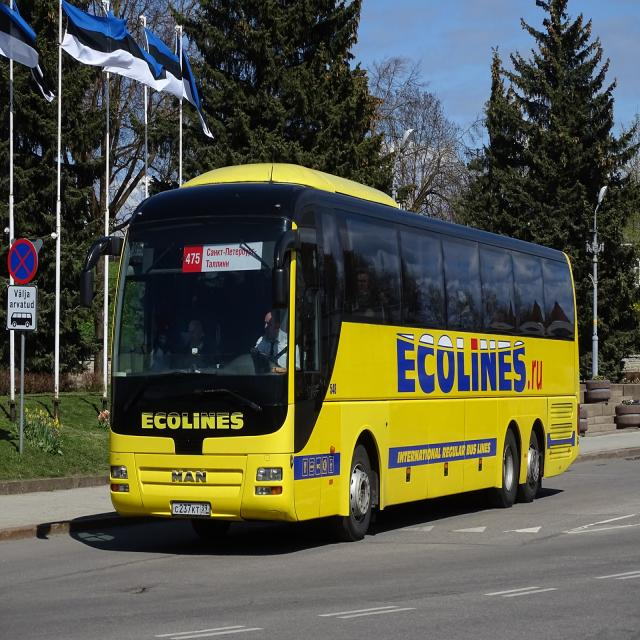number-of-bus: (186, 247, 204, 269)
